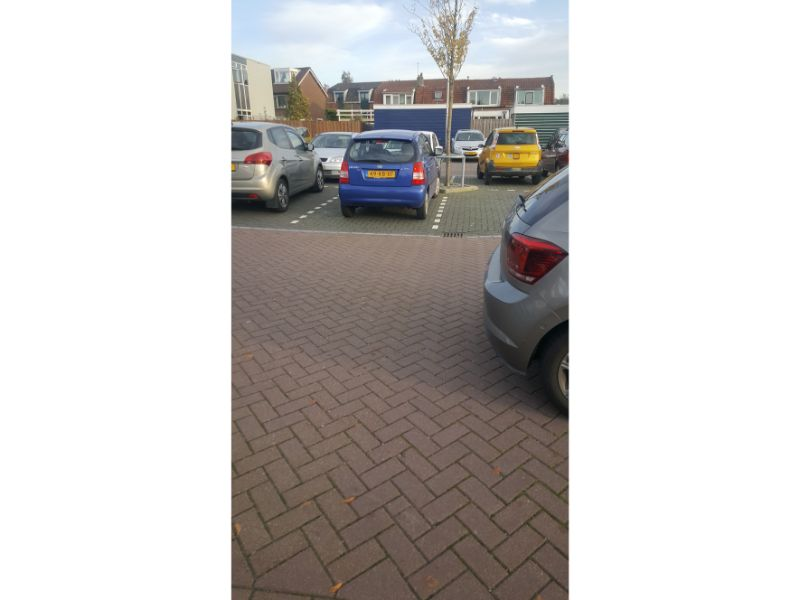kenteken: (363, 168, 397, 177)
